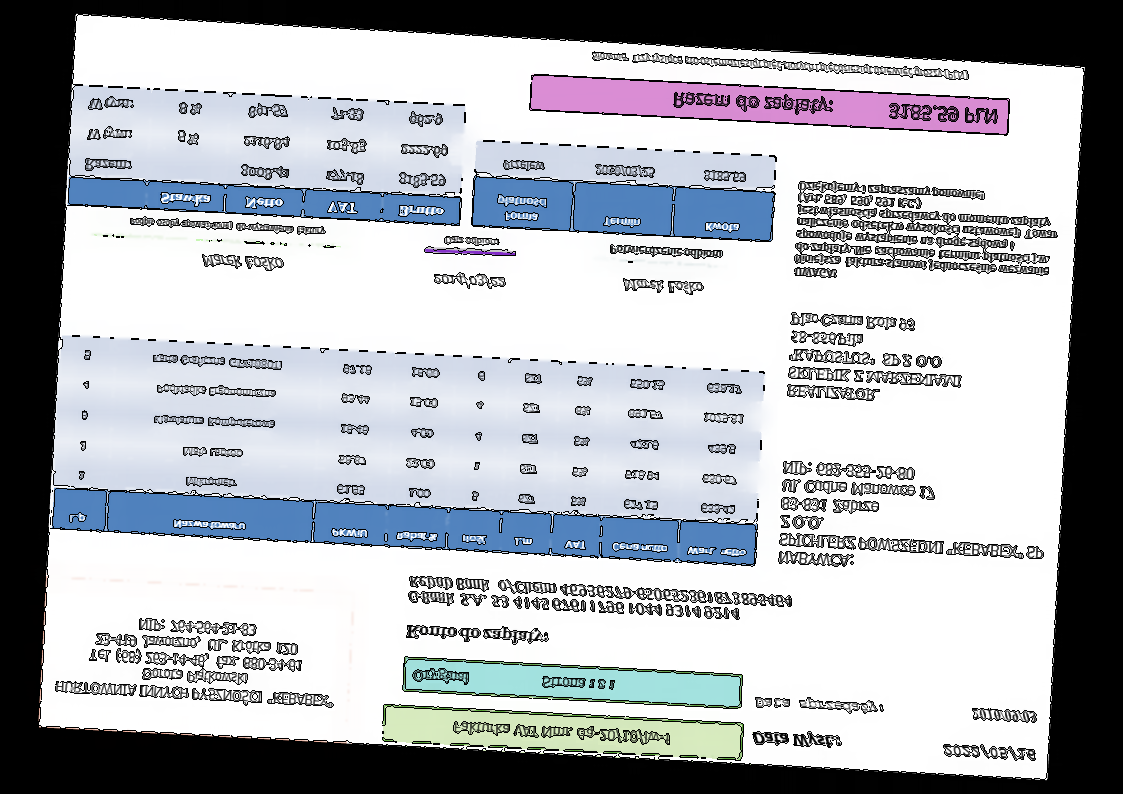Table: (50, 334, 766, 567), (66, 83, 468, 227), (470, 139, 777, 243)
TextBox: (775, 458, 1050, 579), (791, 178, 1062, 293), (53, 609, 340, 711), (405, 571, 794, 625), (784, 310, 968, 409), (589, 47, 971, 84), (671, 86, 1001, 128), (450, 717, 672, 749), (411, 667, 618, 695), (126, 214, 329, 240), (402, 619, 552, 650), (752, 695, 885, 717), (607, 242, 726, 262), (939, 740, 1037, 764), (749, 730, 844, 752), (200, 252, 285, 274), (430, 268, 509, 291), (621, 275, 705, 296), (969, 707, 1037, 725), (441, 233, 501, 250)
